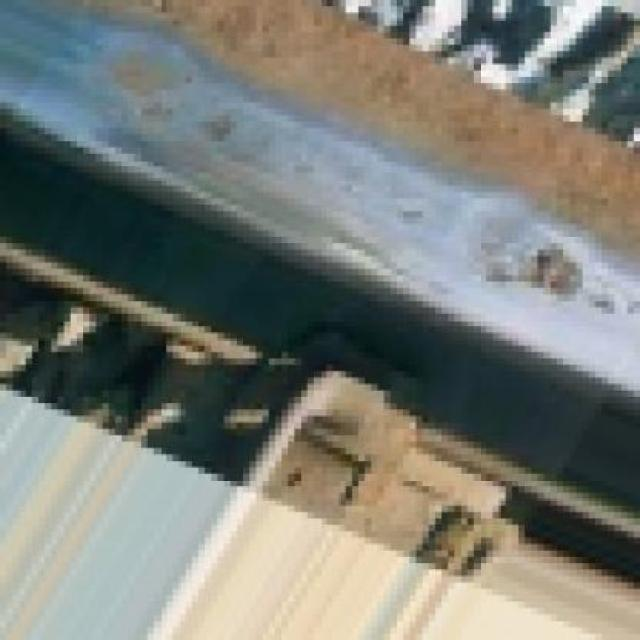defective: (6, 0, 638, 446)
